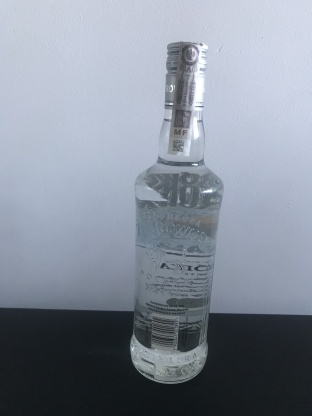nakretka: (161, 36, 210, 113)
